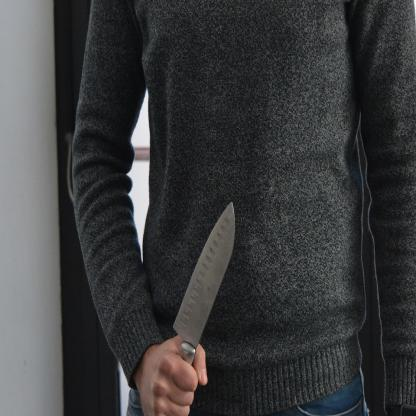knife: (167, 190, 239, 368)
